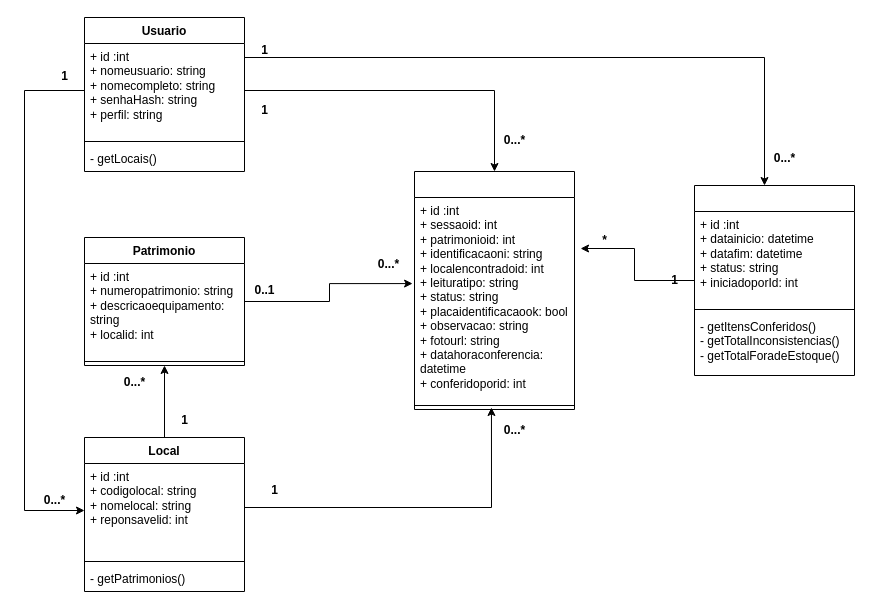
The diagram is 872 pixels wide and 612 high, and some of its shapes have lost their labels. The box of each missing label's shape, as (x1, y1, x2, y2) in pixels:
ItemConferido: (414, 170, 574, 410)
SessaoConferencia: (694, 184, 854, 376)
